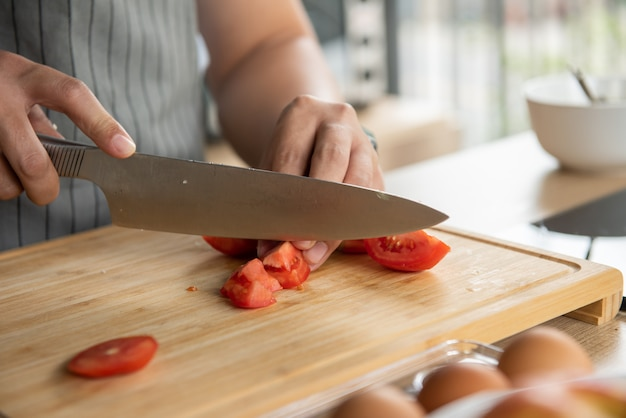knife: (34, 129, 454, 241)
